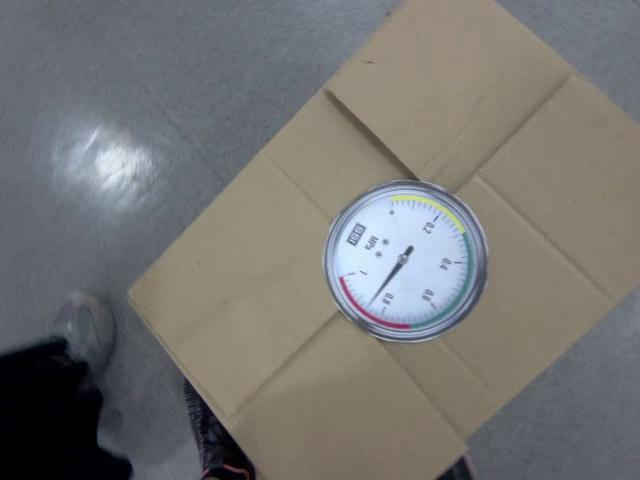Dashboard: (323, 178, 490, 345)
ssi: (343, 222, 367, 248)
